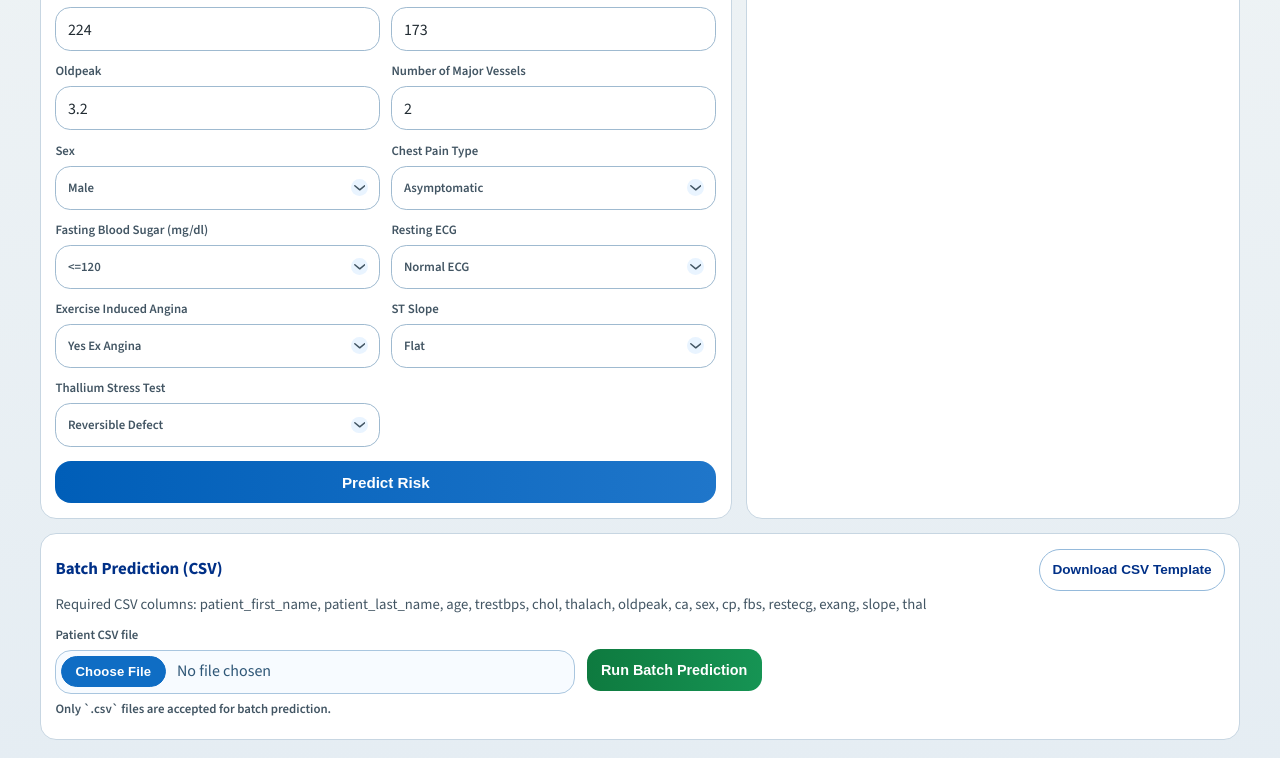
Test: save success popup can clear prediction result view
This screenshot has width=1280, height=758.
(page scrolled)
Click the button "Predict Risk". click: (386, 482)
box: top-left (55, 462), bottom-right (716, 504)
(page scrolled)
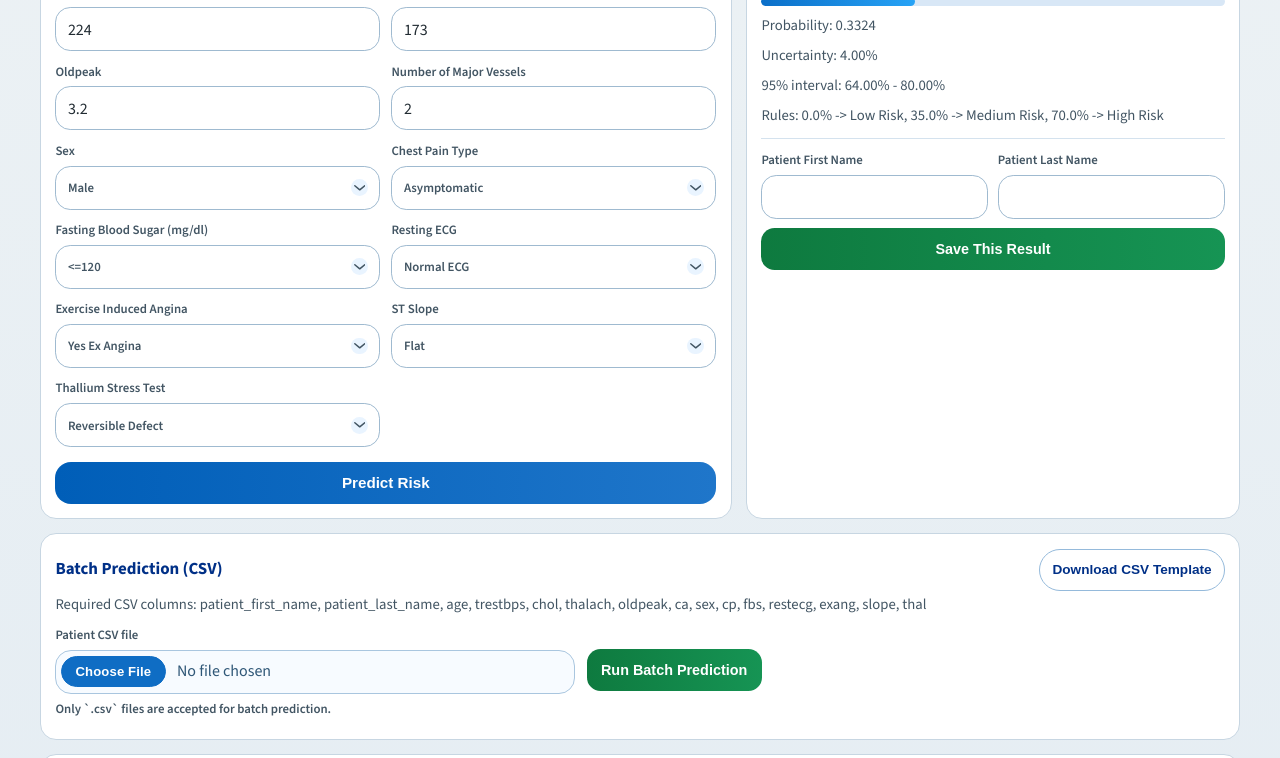
Now the button "Save This Result" is shown, box top-left (761, 228), bottom-right (1225, 270)
Type "Ada" into the field labelled "Patient First Name". click: (875, 197)
box: top-left (761, 175), bottom-right (988, 219)
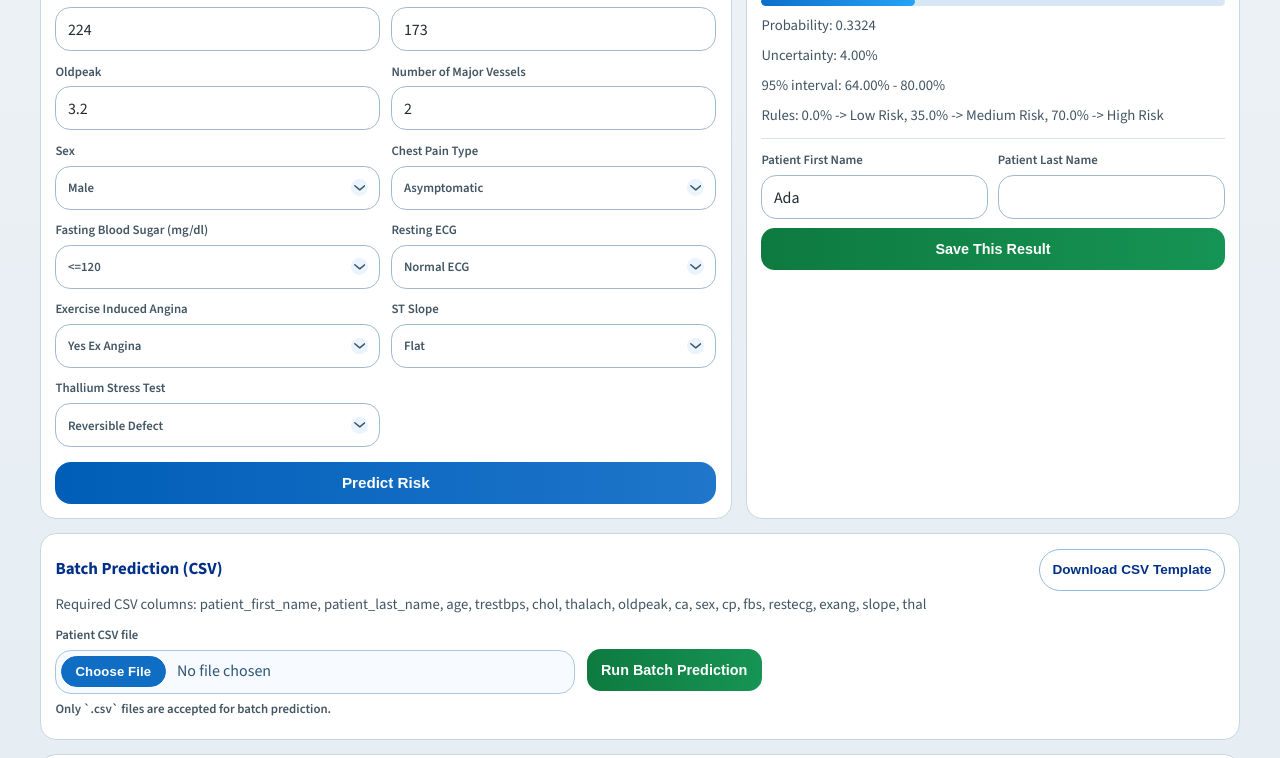
Type "Lovelace" into the field labelled "Patient Last Name". click: (1111, 197)
box: top-left (998, 175), bottom-right (1225, 219)
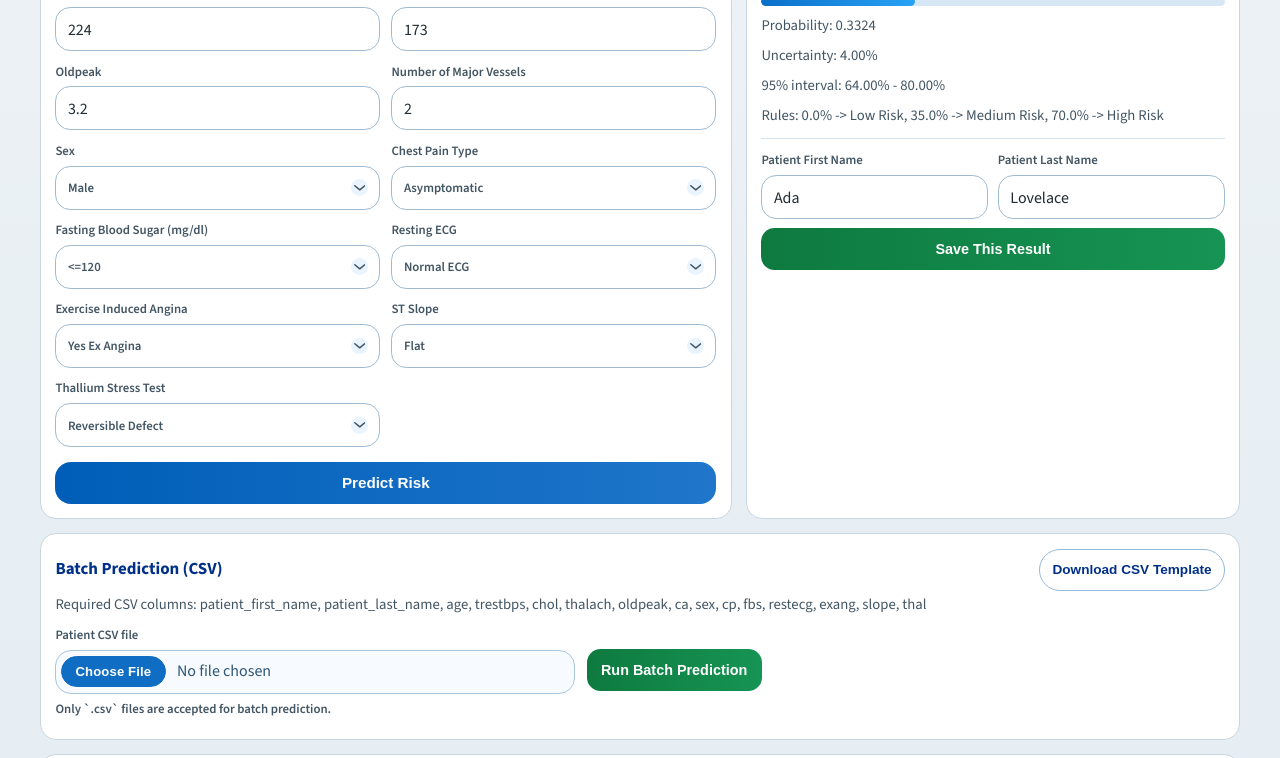
Click the button "Save This Result". click: (993, 249)
box: top-left (761, 228), bottom-right (1225, 270)
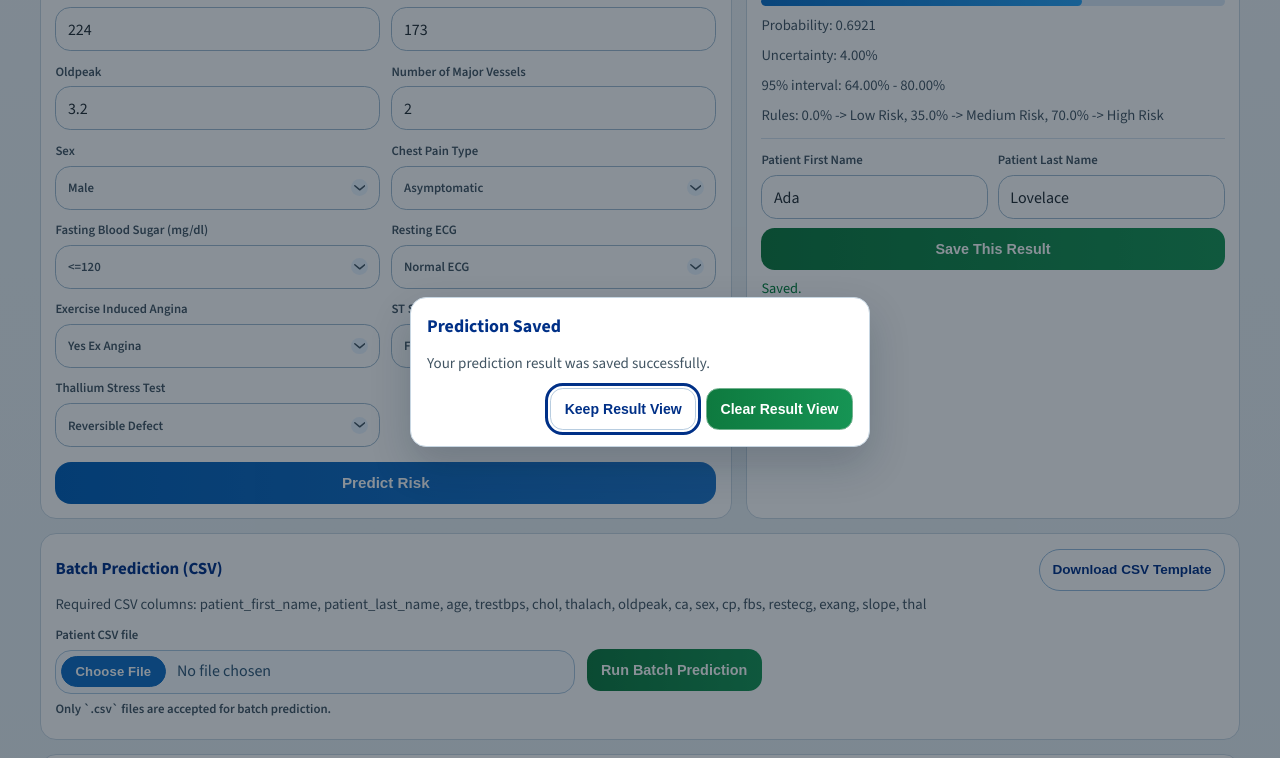
Now the dialog "Prediction Saved" is shown, box top-left (410, 297), bottom-right (870, 447)
Click the button "Clear Result View". click: (779, 409)
box: top-left (706, 388), bottom-right (853, 430)
(page scrolled)
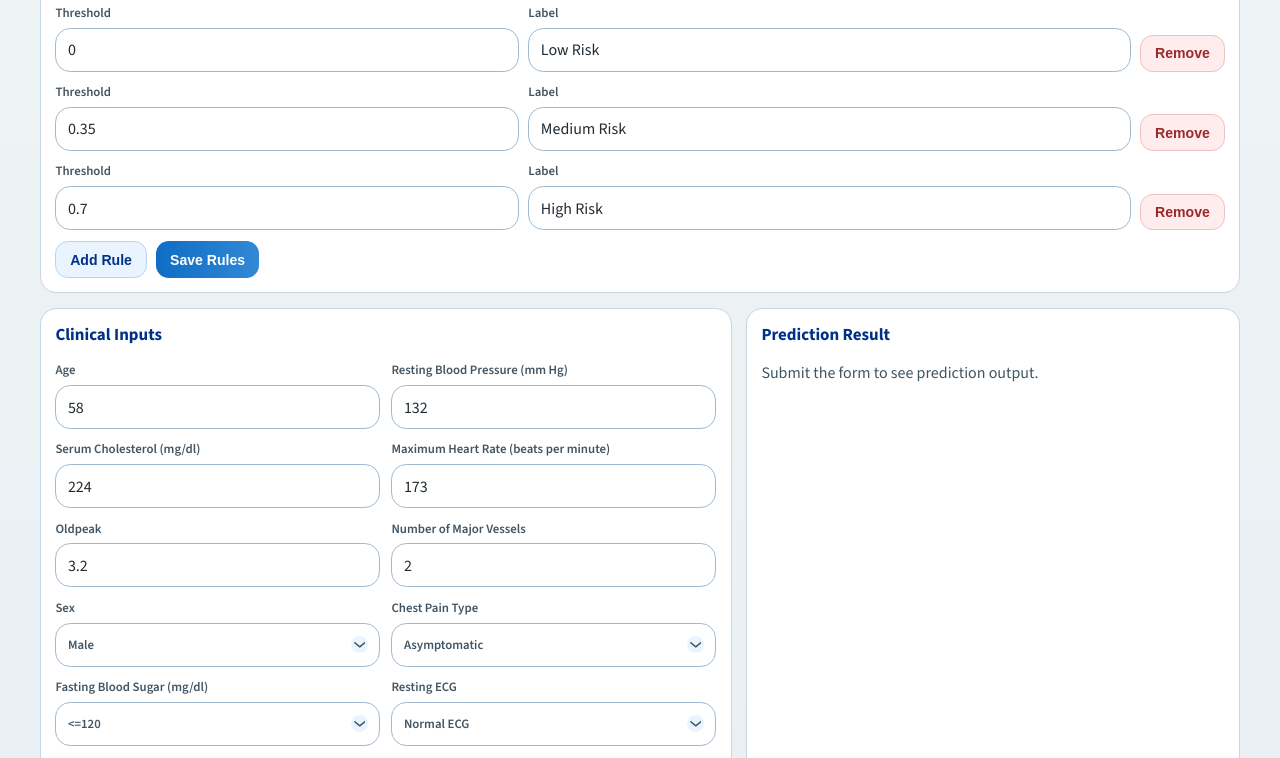
Now the text "Submit the form to see prediction output." is shown, box top-left (761, 362), bottom-right (1039, 383)
